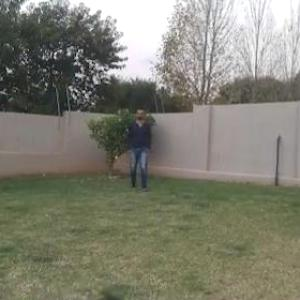follow: (128, 104, 151, 199)
